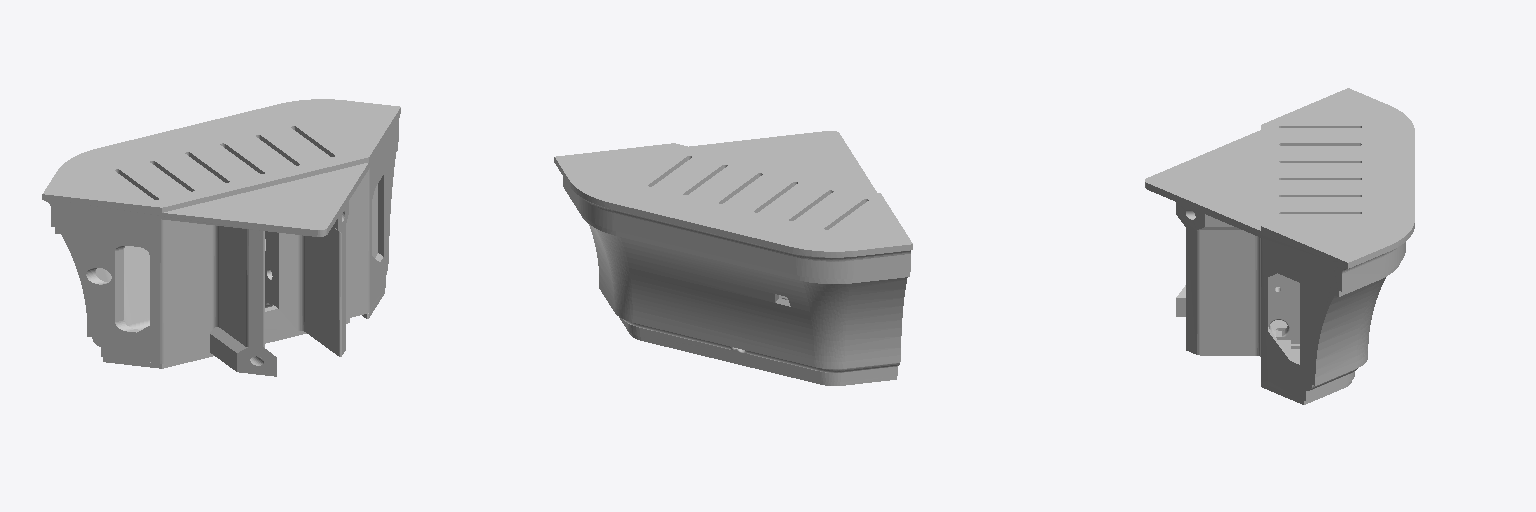
Rendered from anchor.obj.
3 renders of one model, left to right at view 1: azimuth 30°, elevation 25°; view 2: azimuth 150°, elevation 25°; view 3: azimuth 270°, elevation 25°, orthographic.
Parts seen in each view (by area): view 1: Anchor_Corner_-_back_plate; view 2: Anchor_Corner_-_back_plate; view 3: Anchor_Corner_-_back_plate.
Part boxes in pixels (x1,y1,x2,y2): Anchor_Corner_-_back_plate: (42,99,400,376); Anchor_Corner_-_back_plate: (554,131,912,385); Anchor_Corner_-_back_plate: (1145,88,1414,404).
Size of the model in its own units: 0.2237 by 0.096 by 0.1458.